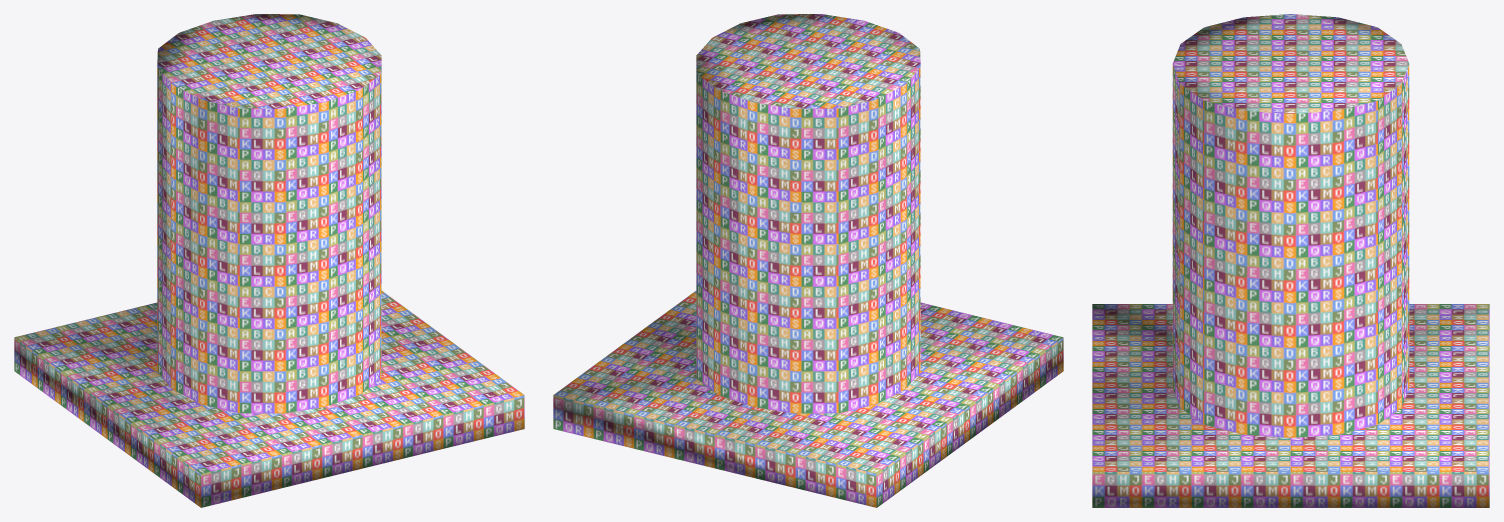
File: Pillar.obj
3 views of the same model, side by side, from view 1: azimuth 30°, elevation 25°; view 2: azimuth 150°, elevation 25°; view 3: azimuth 270°, elevation 25° (orthographic). The views are drawn at different scales.
Parts seen in each view (by area): view 1: cube1; view 2: cube1; view 3: cube1.
Boxes of the visible parts, x1,y1,x2,y2 form: cube1: [14, 14, 524, 507]; cube1: [553, 14, 1063, 507]; cube1: [1092, 14, 1489, 507].
Bounding box in the file's own units: 1 × 1 × 1.
1 material, 1 textured.
